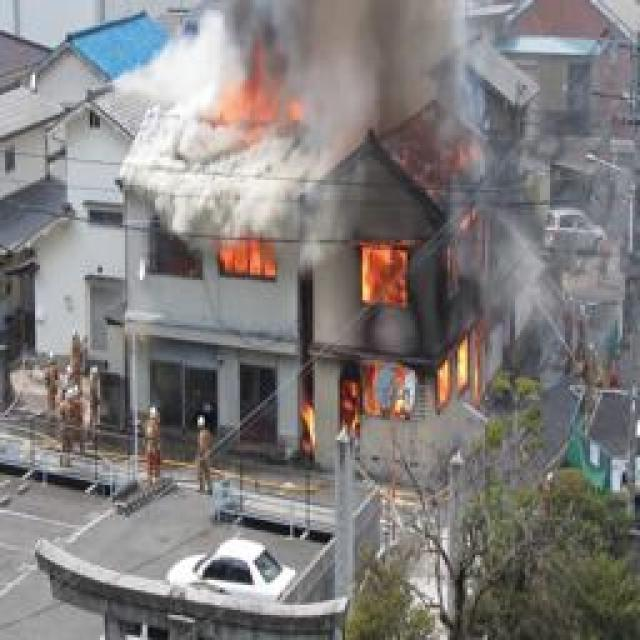Fire: (337, 191, 491, 425), (201, 55, 311, 127), (213, 238, 277, 285)
